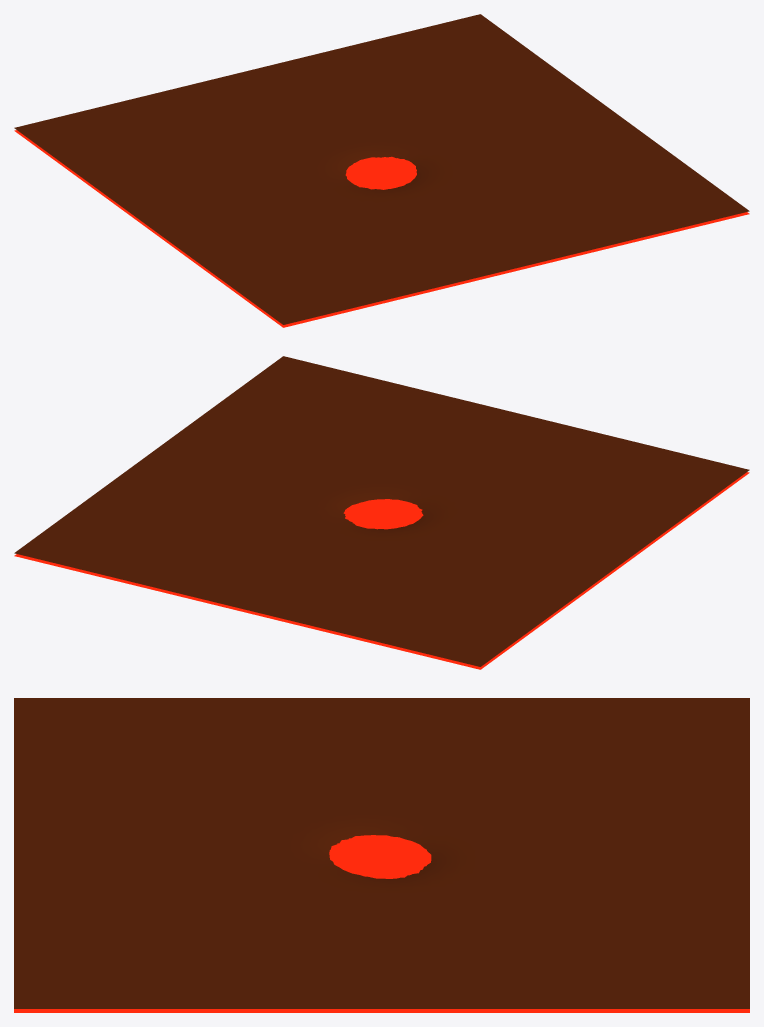
The model's file is terrain.fbx.
The picture shows the model from 3 angles, top to bottom: view 1: azimuth 30°, elevation 25°; view 2: azimuth 150°, elevation 25°; view 3: azimuth 270°, elevation 25°; orthographic projection. The views are drawn at different scales.
Visible parts, largest first — view 1: Plane, Plane.001; view 2: Plane, Plane.001; view 3: Plane, Plane.001.
Boxes of the visible parts, left/top/right/bottom form: Plane: left=14, top=14, right=749, bottom=324; Plane.001: left=14, top=130, right=749, bottom=327; Plane: left=14, top=356, right=749, bottom=666; Plane.001: left=14, top=472, right=749, bottom=669; Plane: left=14, top=698, right=749, bottom=1008; Plane.001: left=14, top=835, right=749, bottom=1012.
Size of the model in its own units: 4489 by 134 by 4489.
